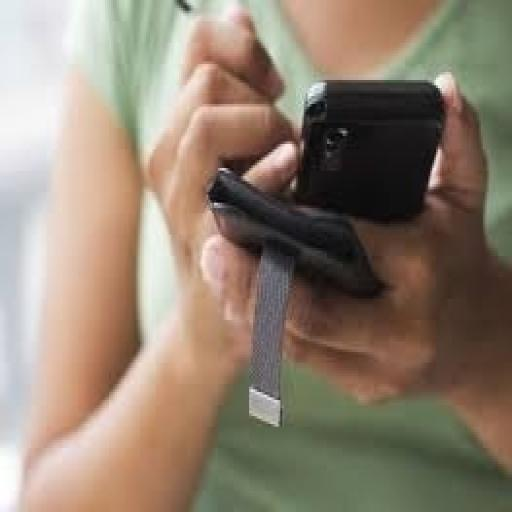texting: (15, 0, 510, 509)
